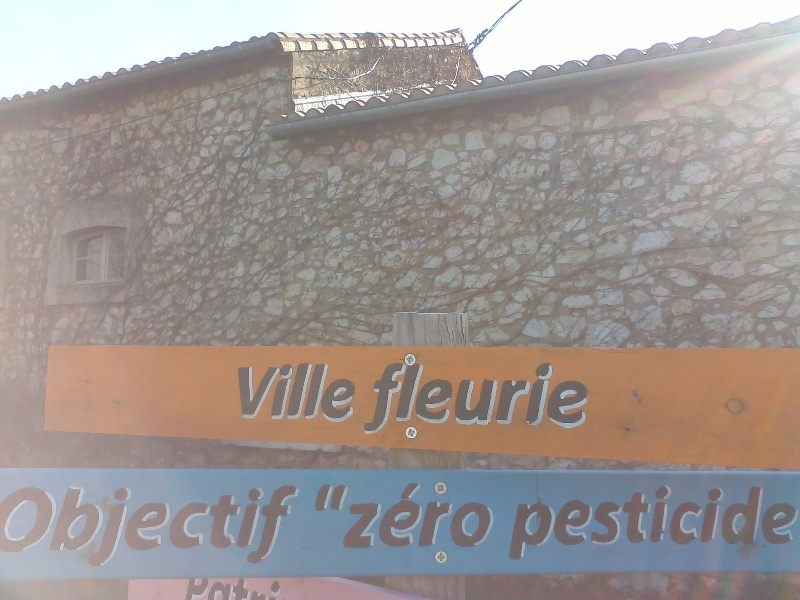text: (1, 482, 16, 568), (17, 482, 32, 568), (33, 482, 48, 568), (49, 482, 64, 568), (65, 482, 80, 568), (81, 482, 96, 568), (97, 482, 112, 568), (113, 482, 128, 568), (129, 482, 144, 568), (145, 482, 160, 568), (161, 482, 176, 568), (177, 482, 192, 568), (193, 482, 208, 568), (209, 482, 224, 568), (225, 482, 240, 568), (241, 482, 256, 568), (257, 482, 272, 568), (273, 482, 288, 568), (529, 481, 544, 562), (545, 481, 560, 562), (561, 481, 576, 562), (577, 481, 592, 562), (593, 481, 608, 562), (609, 481, 624, 562), (625, 481, 640, 562), (641, 481, 656, 562), (657, 481, 672, 562), (673, 481, 688, 562), (689, 481, 704, 562), (705, 481, 720, 562), (721, 481, 736, 562), (737, 481, 752, 562), (753, 481, 768, 562), (769, 481, 784, 562), (785, 481, 800, 562), (289, 482, 303, 568), (514, 481, 528, 562), (385, 362, 400, 436), (401, 362, 416, 436), (417, 362, 432, 436), (433, 362, 448, 436), (449, 362, 464, 436), (465, 362, 480, 436), (481, 362, 496, 436), (497, 362, 512, 436), (513, 362, 528, 436), (529, 362, 544, 436), (545, 362, 560, 436), (561, 362, 576, 436), (577, 362, 592, 436), (321, 481, 336, 550), (337, 481, 352, 550), (353, 481, 368, 550), (369, 481, 384, 550), (385, 481, 400, 550), (401, 481, 416, 550), (417, 481, 432, 550), (433, 481, 448, 550), (449, 481, 464, 550), (465, 481, 480, 550), (481, 481, 496, 550), (371, 362, 384, 436), (241, 361, 256, 422), (257, 361, 272, 422), (273, 361, 288, 422), (289, 361, 304, 422), (305, 361, 320, 422), (321, 361, 336, 422), (337, 361, 352, 422), (236, 361, 240, 422), (353, 361, 357, 422), (318, 481, 320, 550), (497, 481, 499, 550), (593, 362, 594, 436)
